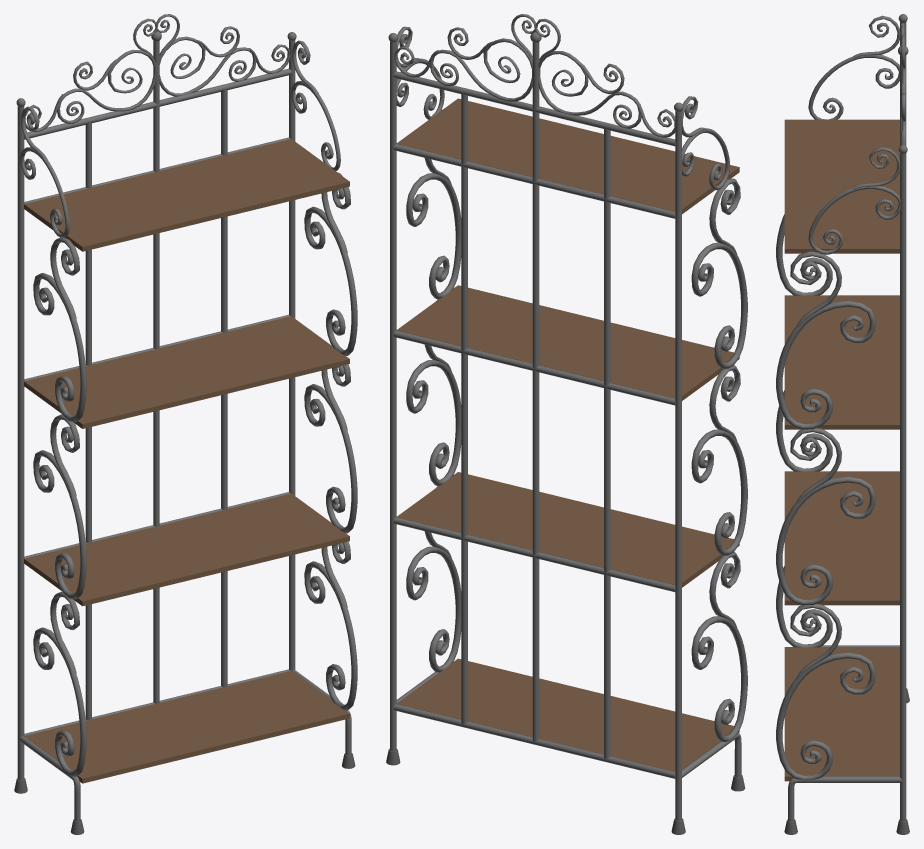
File: bookshelf.fbx
3 views of the same model, side by side, from view 1: azimuth 30°, elevation 25°; view 2: azimuth 150°, elevation 25°; view 3: azimuth 270°, elevation 25° (orthographic). The views are drawn at different scales.
Visible parts, largest first — view 1: bar (×5), shelf3, shelf2, shelf1, shelf, swirl_bottom (×8), swirl_top (×6), s_swirl (×2), bar1, pCylinder3, bar2, bar4 (+2 smaller); view 2: bar (×5), shelf1, shelf2, swirl_bottom (×8), shelf, shelf3, s_swirl (×2), swirl_top (×3), bar5, bar2, bar3, bar4 (+2 smaller); view 3: shelf3, shelf1, shelf2, shelf, swirl_bottom (×8), bar, swirl_top (×5), pCylinder3.
Boxes of the visible parts, x1,y1,x2,y2 form: bar (×5): [17, 40, 295, 780]; shelf3: [24, 139, 349, 251]; shelf2: [24, 316, 349, 428]; shelf1: [24, 493, 349, 606]; shelf: [24, 670, 349, 783]; swirl_bottom (×8): [20, 81, 357, 776]; swirl_top (×6): [50, 172, 350, 674]; s_swirl (×2): [57, 36, 256, 123]; bar1: [24, 68, 291, 139]; pCylinder3: [17, 736, 80, 821]; bar2: [24, 137, 290, 203]; bar4: [24, 492, 290, 558]; bar (×5): [390, 41, 681, 820]; shelf1: [397, 472, 739, 587]; shelf2: [396, 285, 739, 400]; swirl_bottom (×8): [396, 58, 747, 741]; shelf: [396, 658, 739, 771]; shelf3: [396, 98, 739, 214]; s_swirl (×2): [429, 38, 641, 128]; swirl_top (×3): [709, 178, 740, 628]; bar5: [393, 704, 675, 778]; bar2: [393, 144, 675, 218]; bar3: [393, 330, 675, 405]; bar4: [393, 517, 675, 591]; shelf3: [784, 119, 899, 253]; shelf1: [784, 471, 899, 605]; shelf2: [784, 295, 899, 429]; shelf: [784, 647, 899, 781]; swirl_bottom (×8): [776, 55, 900, 780]; bar: [900, 153, 906, 821]; swirl_top (×5): [790, 15, 900, 679]; pCylinder3: [788, 776, 903, 821].
Size of the model in its own units: 25.05 by 62.71 by 10.36.
